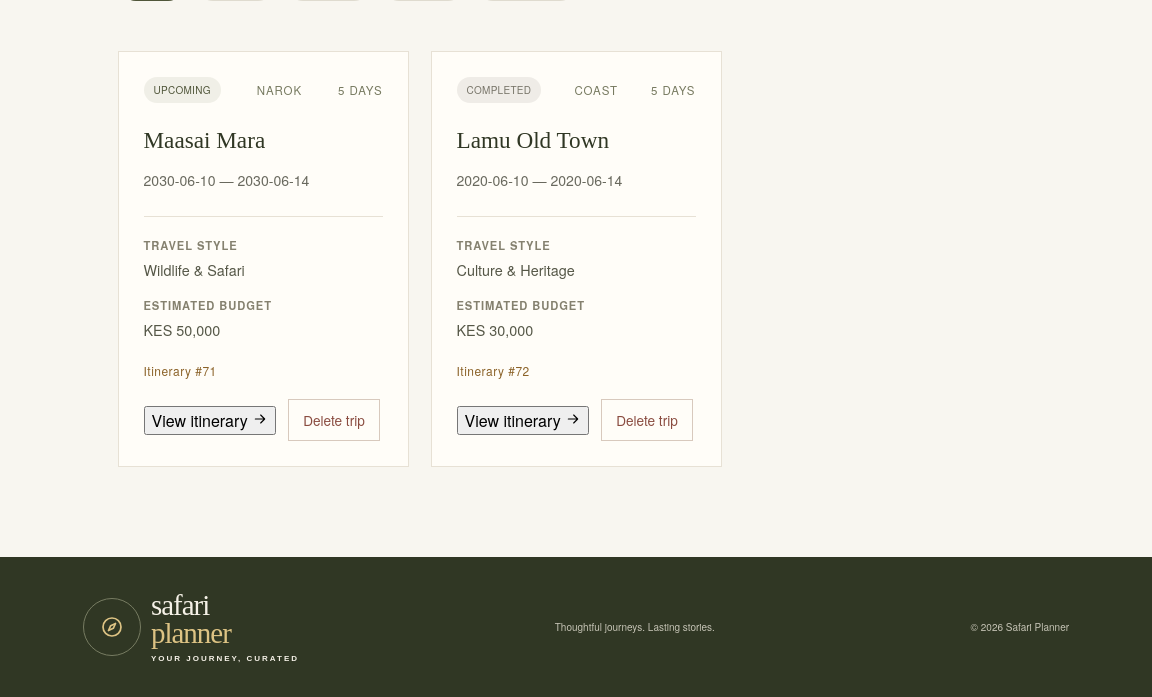
Scenario: App saved trips › deletes a saved itinerary using the authenticated user token
(page scrolled)
expect the heading "Maasai Mara" is shown: met, box 144,127 -> 265,153
Click the button "Delete trip" below "71": (334, 420) 288,399 -> 380,441
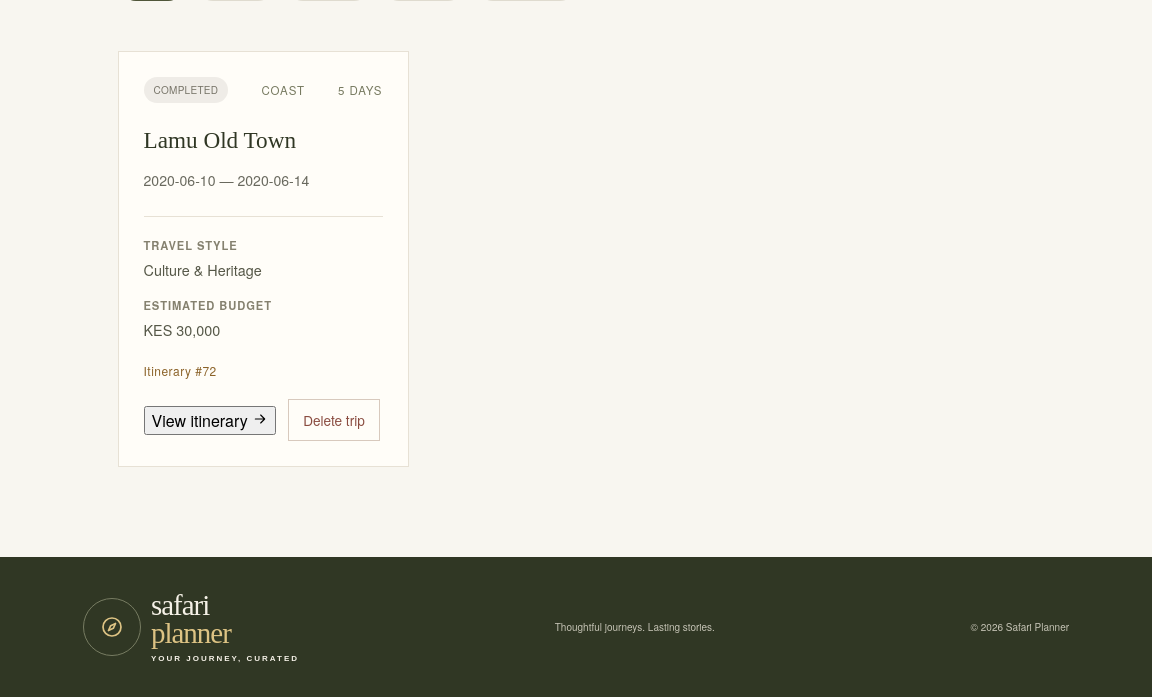
expect the heading "Maasai Mara" is gone: met
